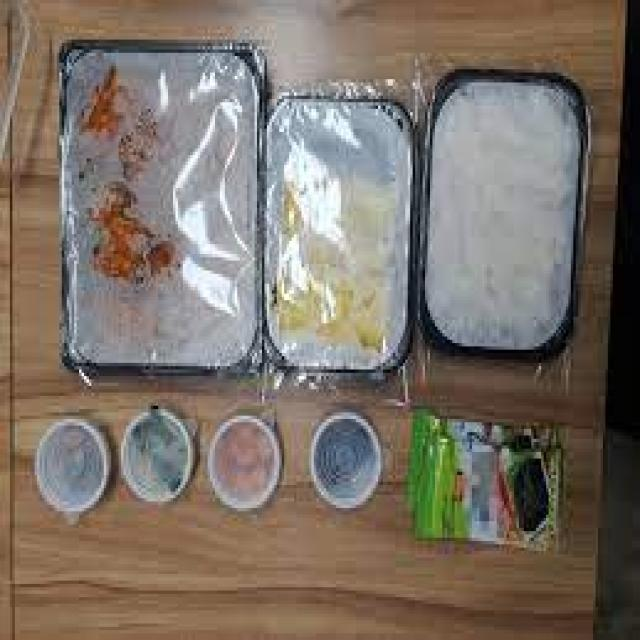plastic-bag: (399, 402, 575, 568)
plastic-bowl: (52, 26, 270, 390), (421, 60, 598, 381), (264, 79, 428, 408), (202, 406, 296, 524), (302, 407, 393, 519), (28, 413, 114, 526), (114, 398, 202, 508)
